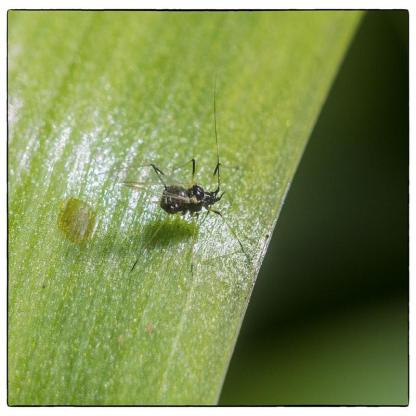aphid: (131, 122, 241, 260)
